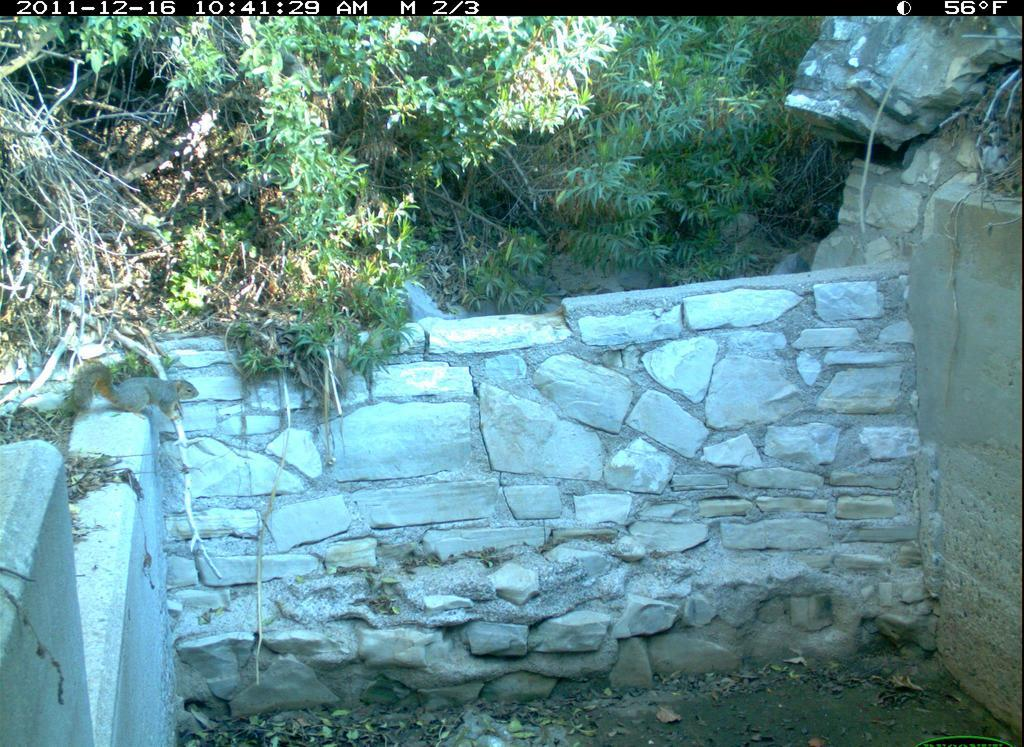squirrel: (57, 354, 205, 425)
